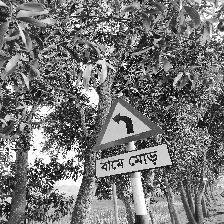Left-Turn: (92, 96, 173, 179)
